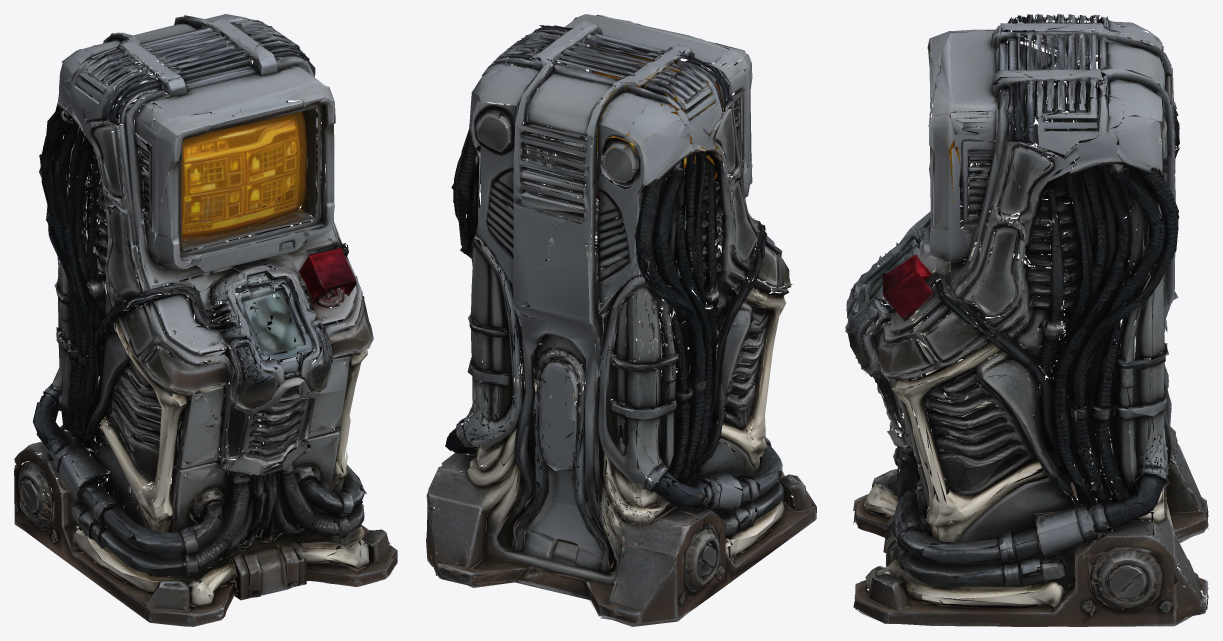
File: evac_manifest_allocation_terminal.glb
The picture shows the model from 3 angles, left to right: view 1: azimuth 30°, elevation 25°; view 2: azimuth 150°, elevation 25°; view 3: azimuth 270°, elevation 25°; orthographic projection. The views are drawn at different scales.
Parts seen in each view (by area): view 1: node_0; view 2: node_0; view 3: node_0.
Boxes of the visible parts, box(x1,y1,x2,y2) form: node_0: box(14, 14, 397, 626); node_0: box(426, 14, 816, 626); node_0: box(845, 14, 1208, 626).
Size of the model in its own units: 0.5452 by 0.9665 by 0.6164.
Materials: 1 (1 with a texture image).
